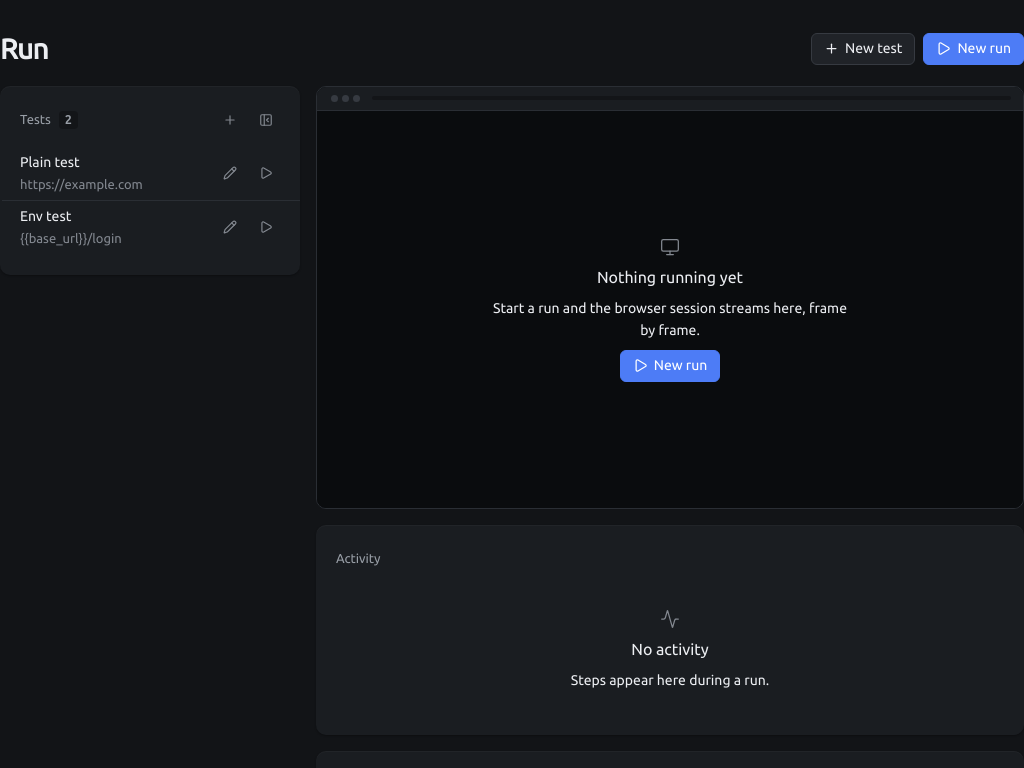
Test: RunView activity leads the run (US-076) › pulses the newest row while the run is live, and stops when it ends
Click the button named "Run \"Plain test\"" at coordinates (266, 173), box [252,159,280,187]
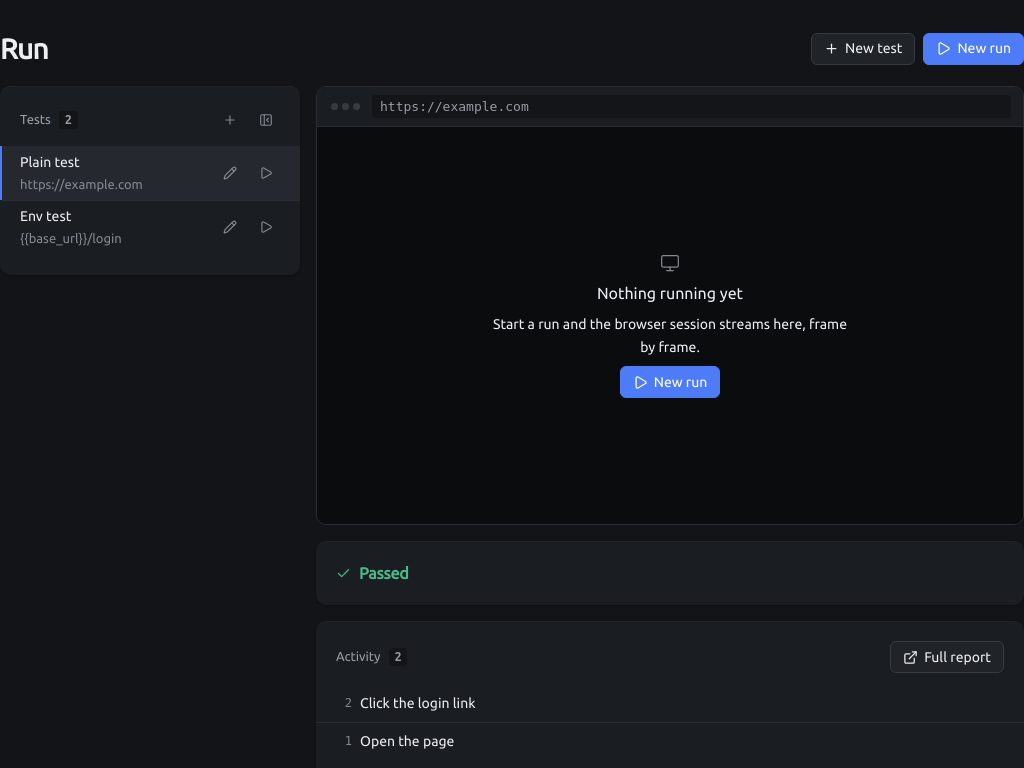
Now the element with class "log-item" shows "Click the login link", box [360,695,476,711]
Now the text "2" next to "Click the login link" is shown, box [345,696,352,710]
Now the text with class "step-n" reads "1", box [345,734,352,748]
